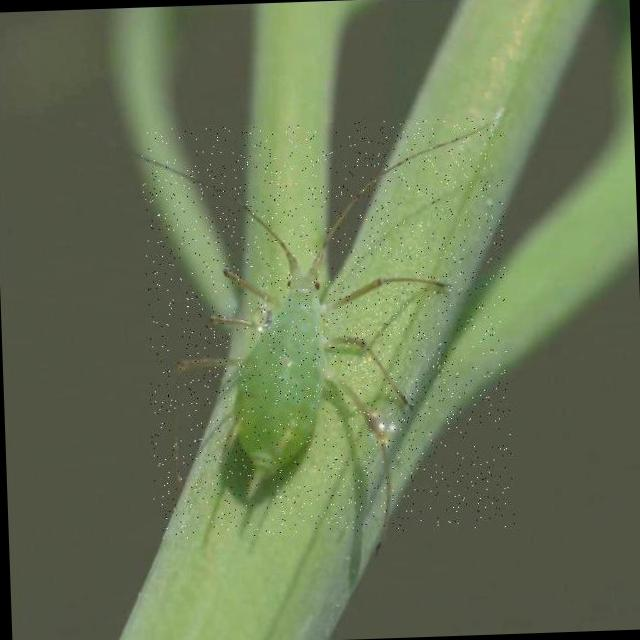aphid: (141, 116, 499, 530), (173, 404, 183, 486)
